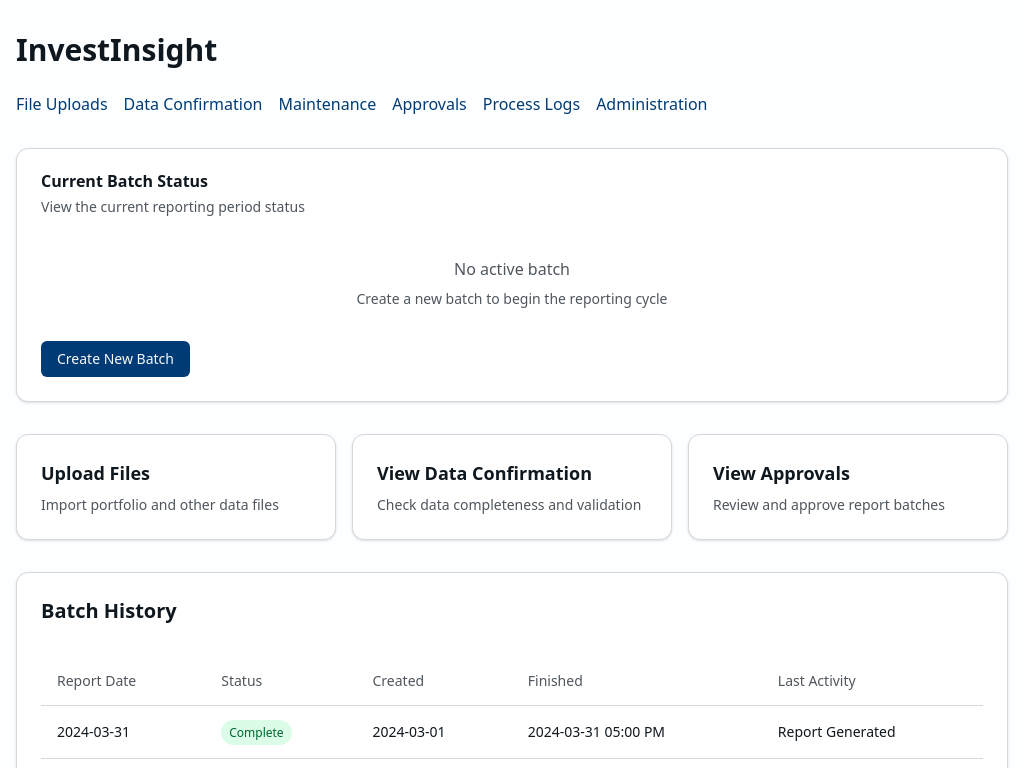
Test case: Epic 1, Story 5: Start Page - Batch History › Batch History Details › expands row to show additional details when clicked
Click the 2nd row at (512, 732), box x1=41 y1=705 x2=983 y2=758
(page scrolled)
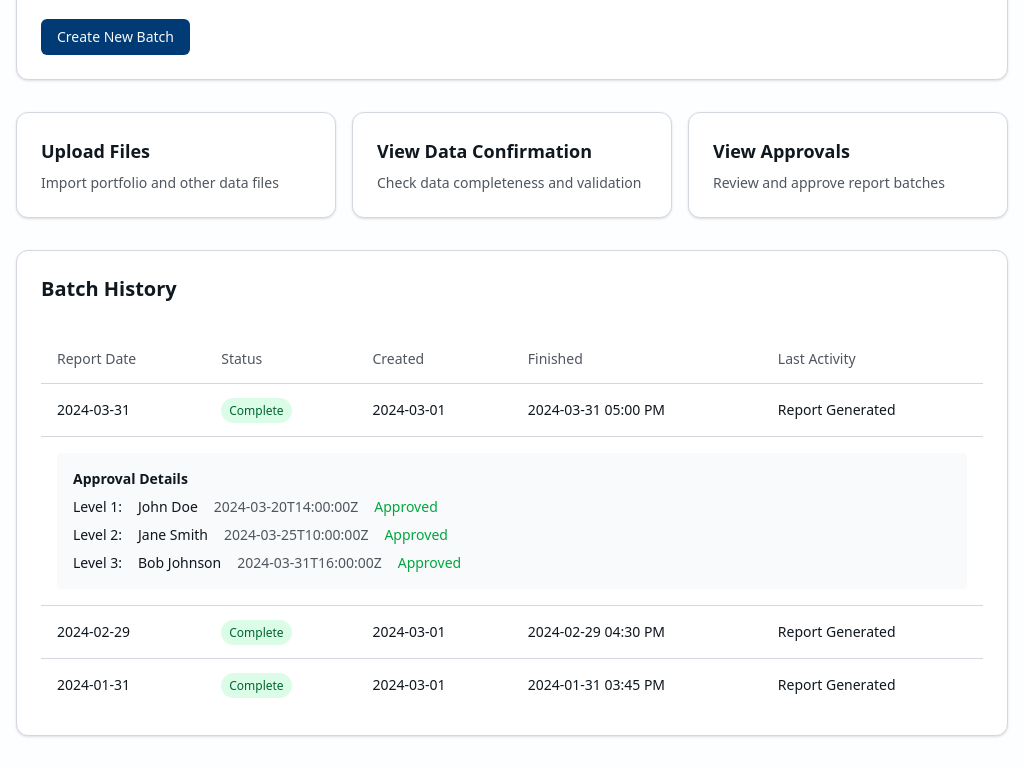
Expected: the heading "Approval Details" is shown, x1=73 y1=468 x2=188 y2=488
